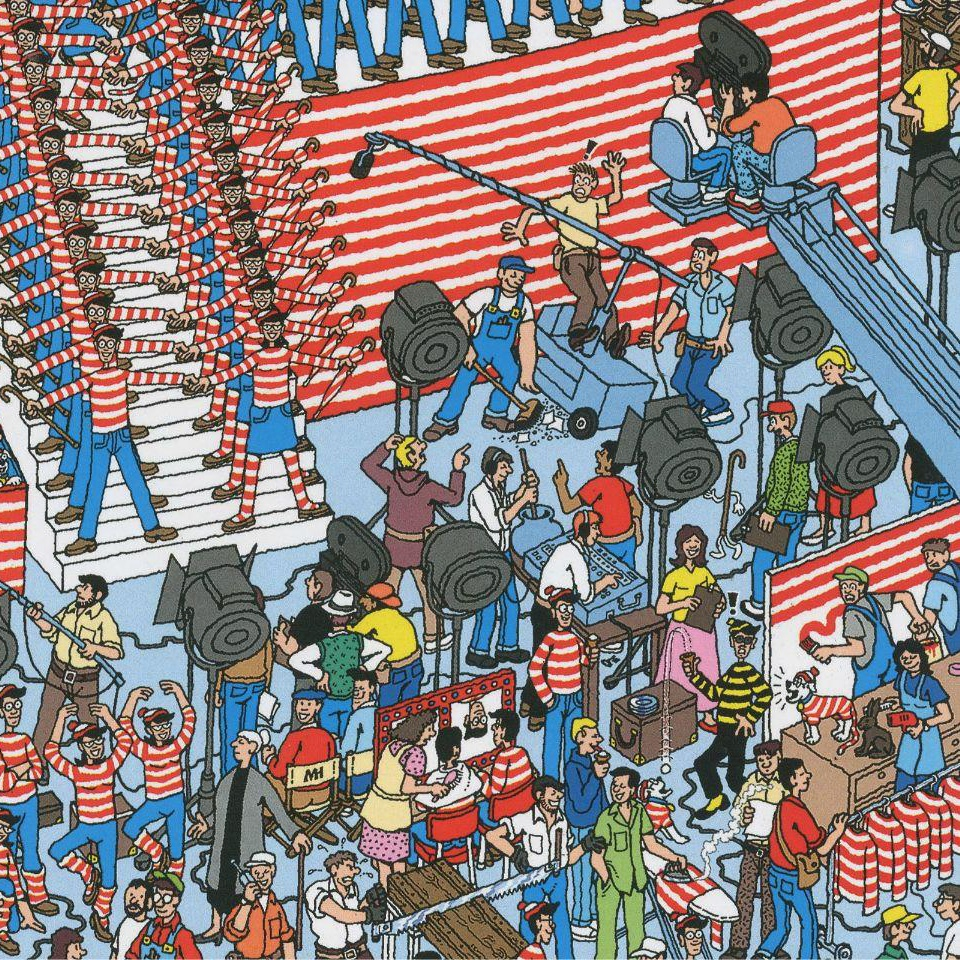waldo: (530, 584, 587, 716), (0, 685, 42, 801), (89, 323, 129, 432), (670, 911, 706, 959), (59, 220, 91, 261), (26, 84, 56, 125), (47, 185, 80, 222), (46, 156, 79, 189), (79, 291, 111, 325), (33, 122, 64, 155), (18, 48, 47, 83), (71, 259, 98, 292), (18, 18, 40, 50), (1, 0, 35, 20)
